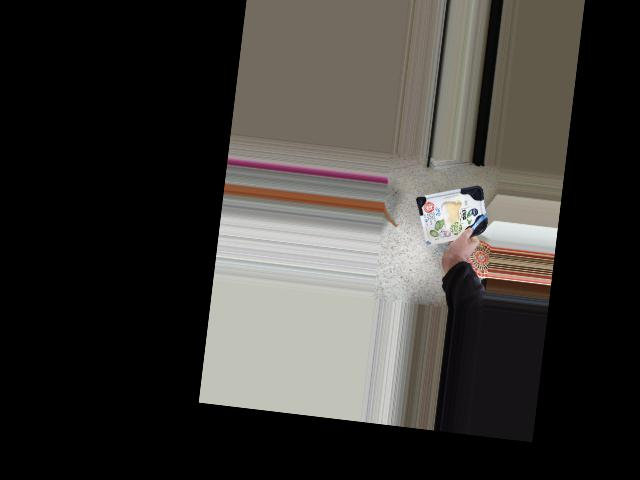cheese: (411, 178, 492, 250)
